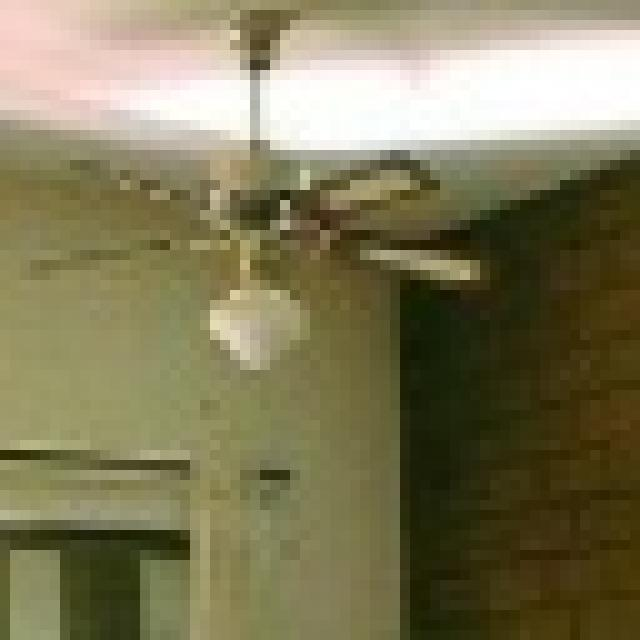Bulb: (47, 130, 509, 363)
